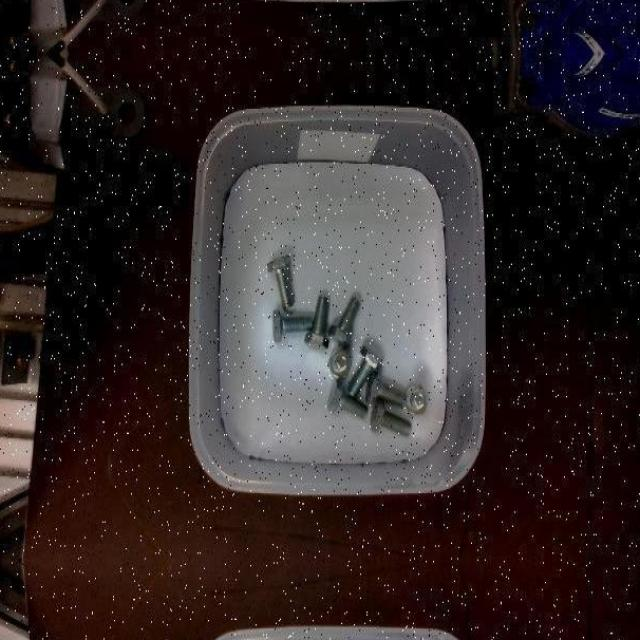screw: (348, 344, 382, 397), (329, 296, 361, 348), (328, 379, 368, 419), (370, 398, 410, 436), (267, 255, 294, 309), (303, 294, 329, 350), (366, 370, 406, 406), (272, 310, 312, 344), (404, 384, 429, 416), (327, 348, 352, 379)
